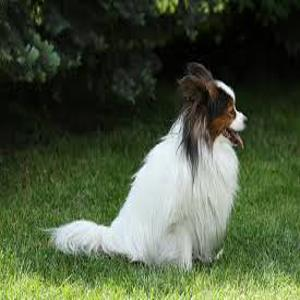yell: (46, 62, 249, 269)
